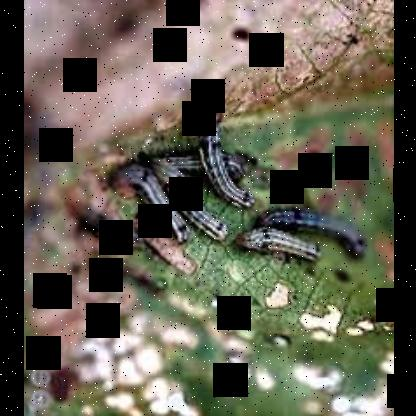agujero: (293, 298, 341, 338), (262, 278, 294, 309), (348, 318, 376, 338)
oruga: (190, 113, 270, 221), (152, 152, 228, 256), (248, 204, 374, 266), (112, 164, 196, 250), (226, 230, 320, 272)
